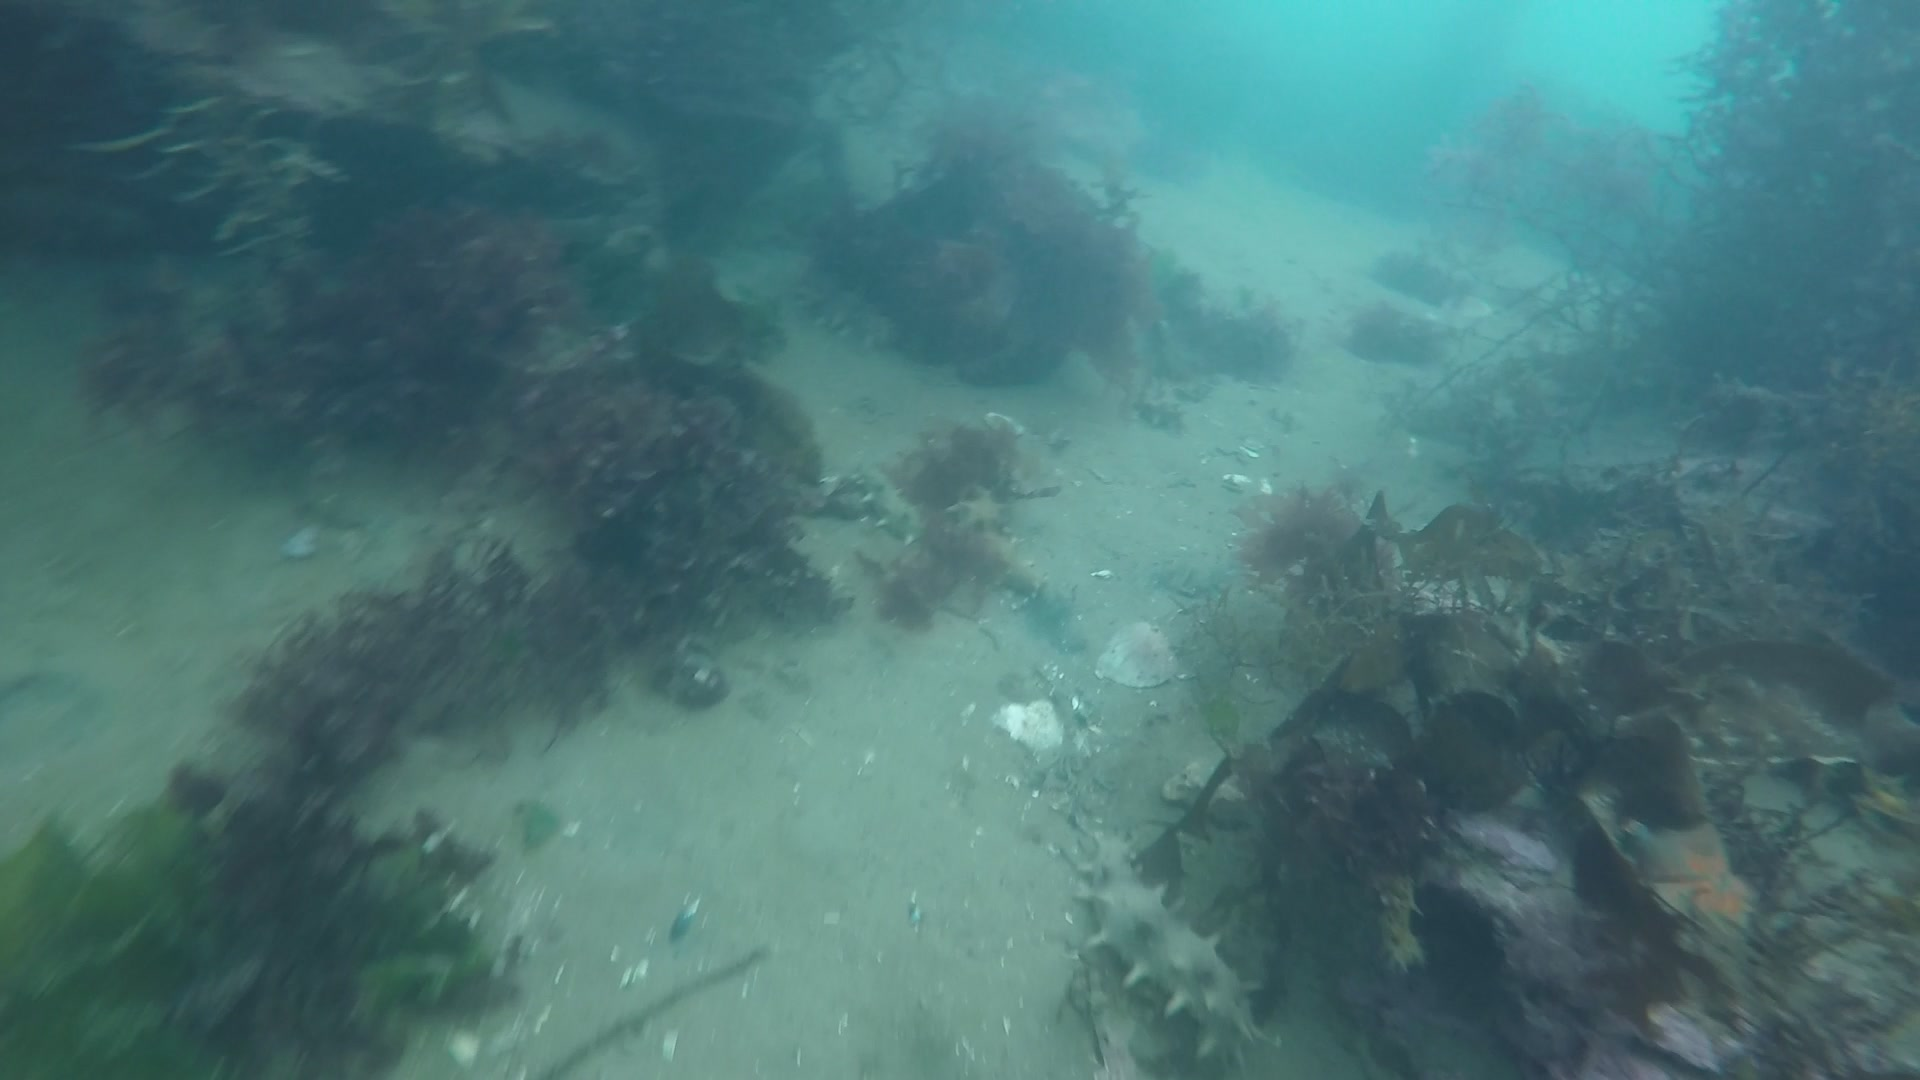holothurian: (1054, 814, 1265, 1054), (836, 458, 1047, 601), (1373, 858, 1420, 982)
scallop: (986, 690, 1116, 762), (1097, 617, 1180, 687)
starfish: (1618, 818, 1759, 980)
